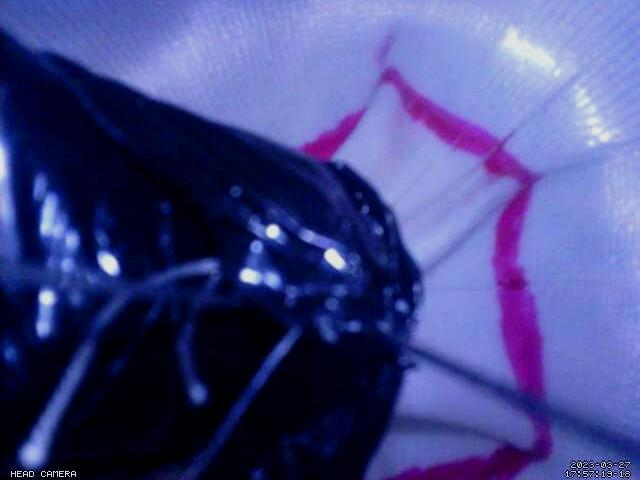red-circle: (299, 66, 554, 478)
